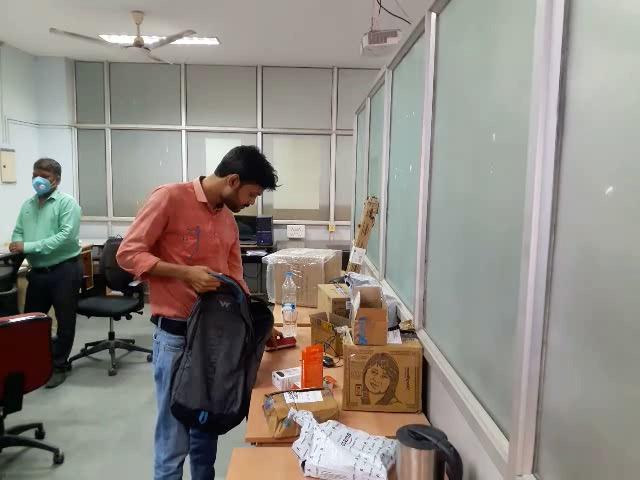shoplifting: (131, 232, 288, 476)
